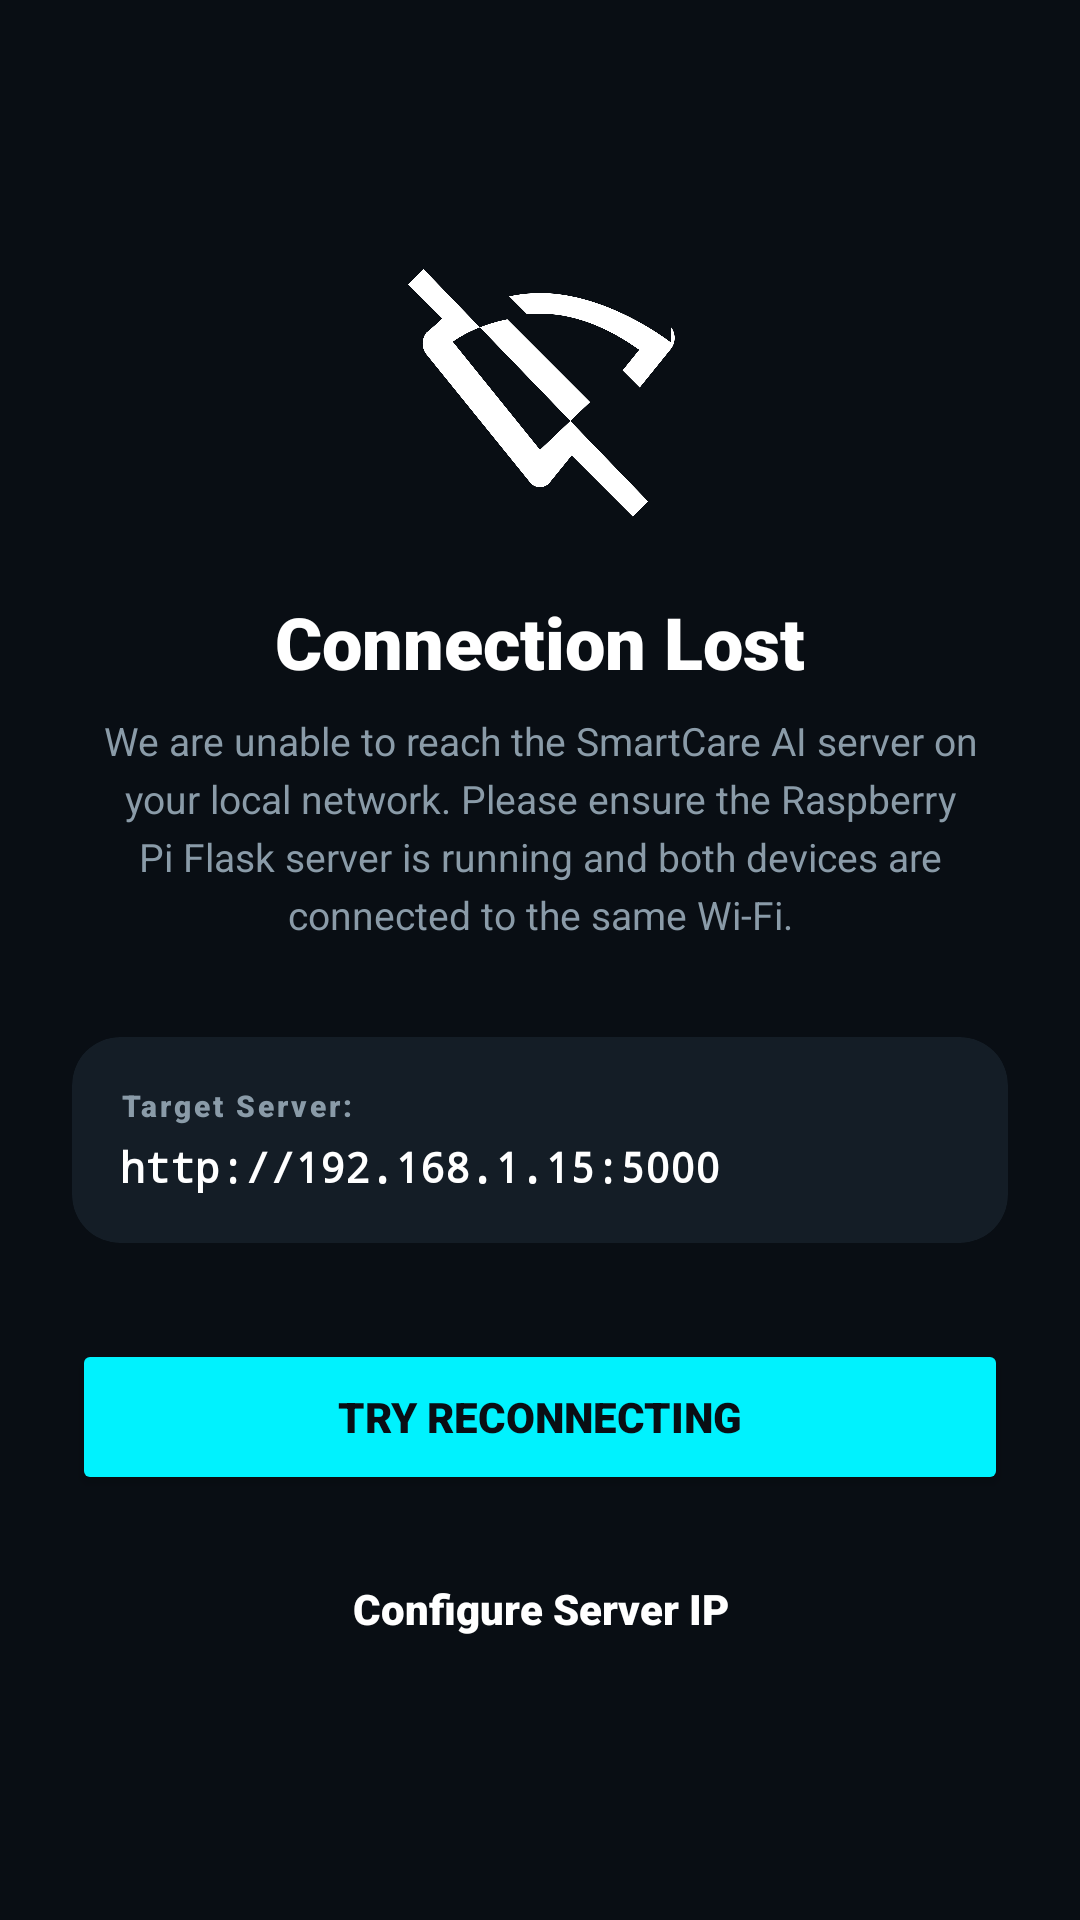

Point at icon controls on the screen. Image size 1080*1920, points as (x=x, y=y).
offline: (x=541, y=393)
